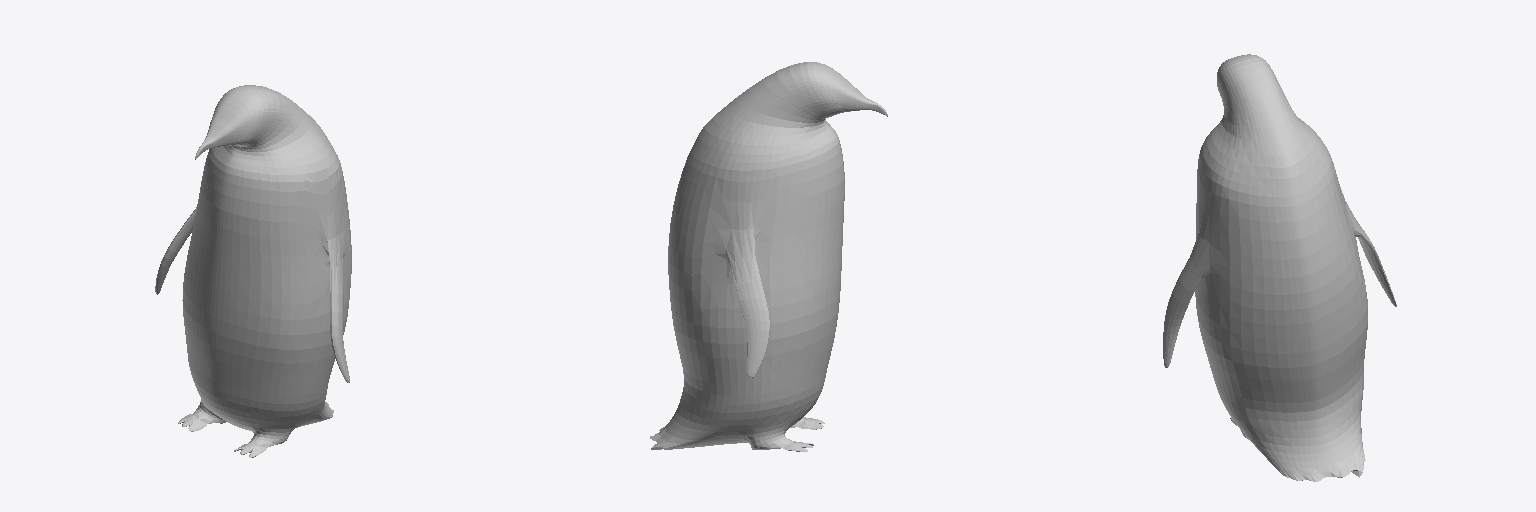
Rendered from penguin7.obj.
The picture shows the model from 3 angles: view 1: azimuth 30°, elevation 25°; view 2: azimuth 150°, elevation 25°; view 3: azimuth 270°, elevation 25°; orthographic projection.
Parts seen in each view (by area): view 1: Penguin_Cylinder.004; view 2: Penguin_Cylinder.004; view 3: Penguin_Cylinder.004.
Part boxes in pixels (x1,y1,x2,y2): Penguin_Cylinder.004: (155,85,351,457); Penguin_Cylinder.004: (650,62,887,451); Penguin_Cylinder.004: (1163,54,1396,481).
Bounding box in the file's own units: 106 × 207 × 118.